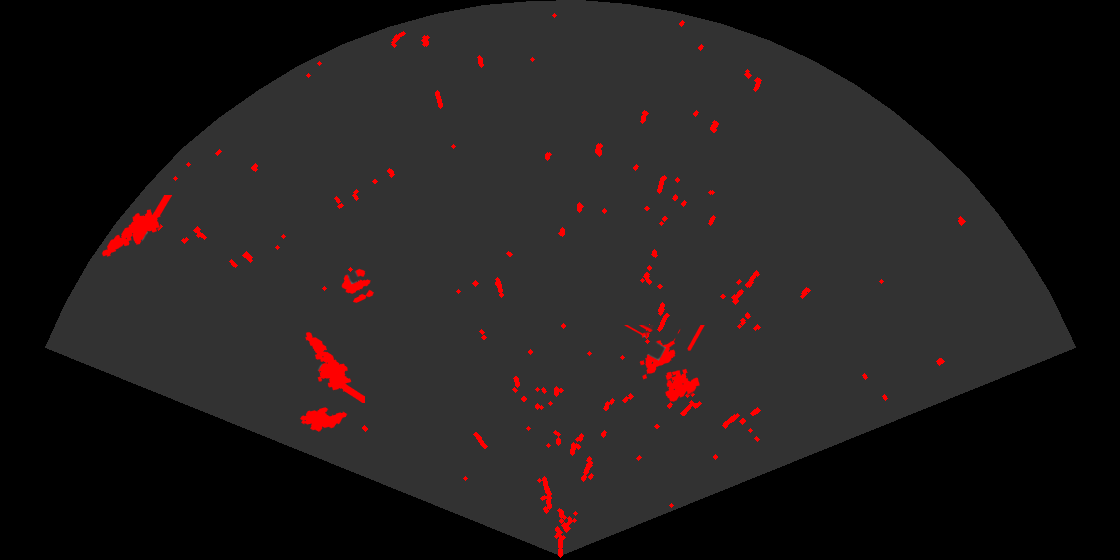AUV: (298, 406, 349, 433)
ball: (340, 267, 375, 304)
cage: (623, 325, 706, 403)
frogman: (100, 195, 172, 258), (304, 330, 365, 403)
